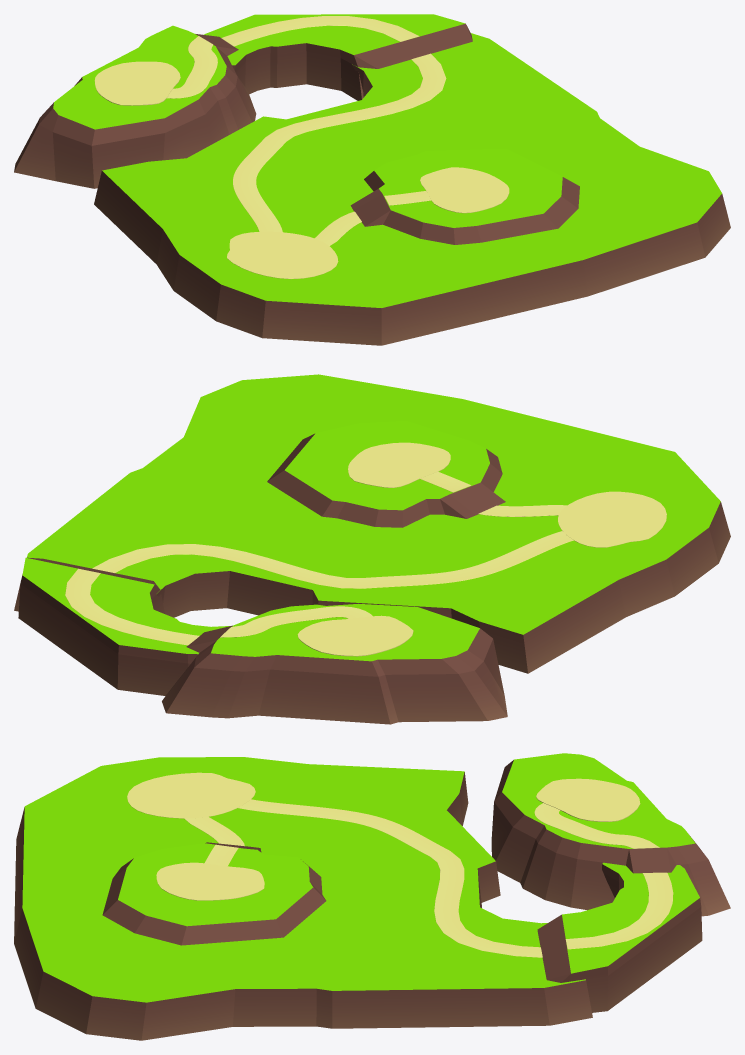
File: Map2_Ramp.fbx
3 renders of one model, top to bottom at view 1: azimuth 30°, elevation 25°; view 2: azimuth 150°, elevation 25°; view 3: azimuth 270°, elevation 25°, orthographic. The views are drawn at different scales.
Parts seen in each view (by area): view 1: Map2; view 2: Map2; view 3: Map2.
Part boxes in pixels (left/top/right/bottom): Map2: left=14, top=14, right=730, bottom=345; Map2: left=14, top=374, right=730, bottom=724; Map2: left=14, top=753, right=730, bottom=1040.
Size of the model in its own units: 4176 by 431 by 5000.
